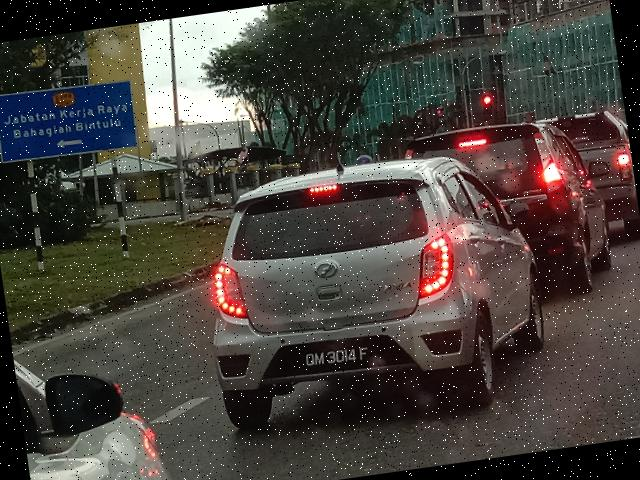License_Plate: (290, 337, 382, 376)
car: (186, 116, 567, 439)
